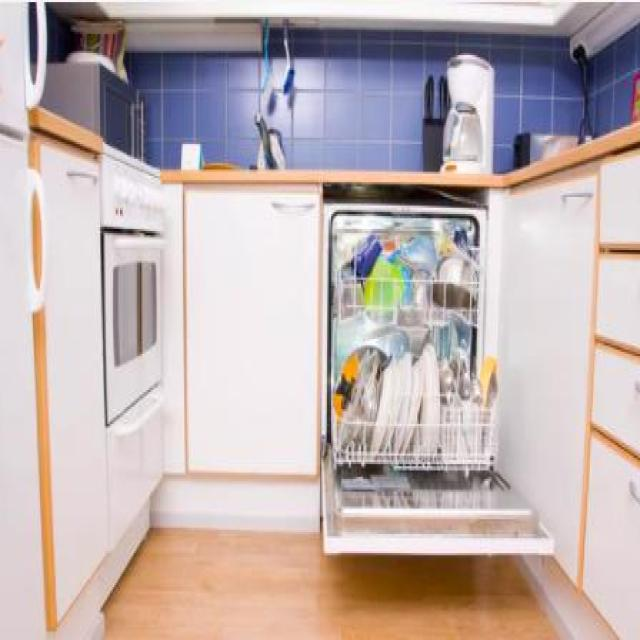dishwasher: (322, 178, 552, 553)
